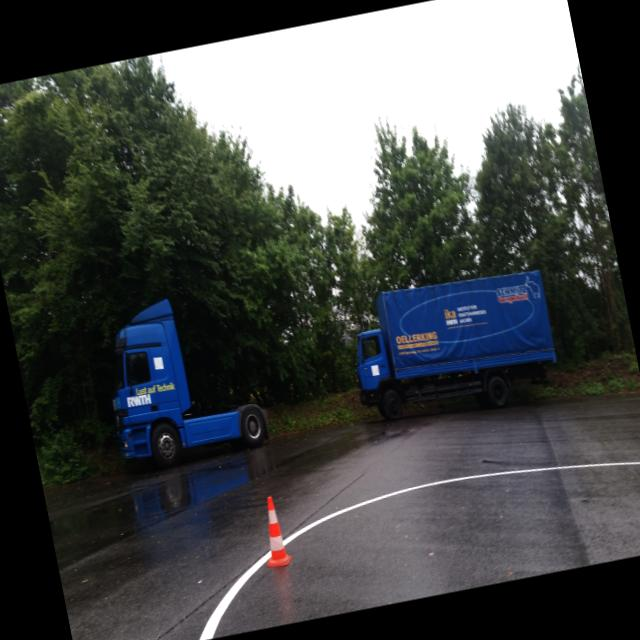large_orange_cone: (254, 494, 294, 568)
